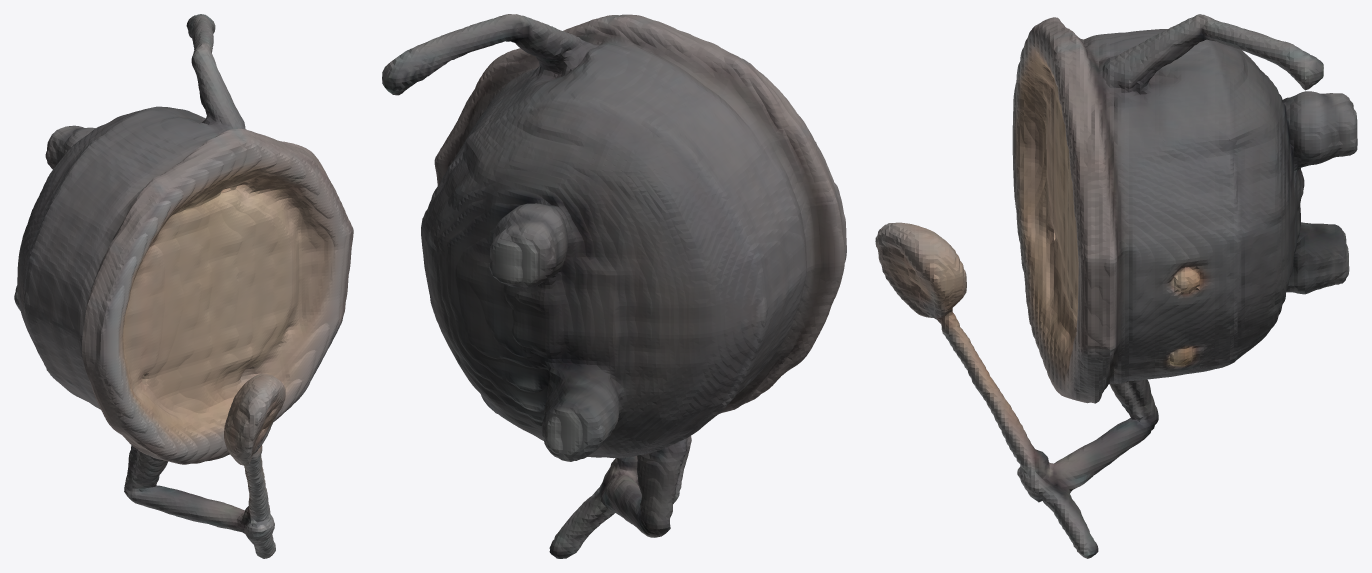
Rendered from enemy_lobber_triposr.glb.
3 views of the same model, side by side, from view 1: azimuth 30°, elevation 25°; view 2: azimuth 150°, elevation 25°; view 3: azimuth 270°, elevation 25° (orthographic). The views are drawn at different scales.
Parts seen in each view (by area): view 1: geometry_0; view 2: geometry_0; view 3: geometry_0.
Boxes of the visible parts, <box> form: geometry_0: <box>14,14,353,558</box>; geometry_0: <box>382,14,846,558</box>; geometry_0: <box>875,14,1357,558</box>.
Size of the model in its own units: 0.6977 by 1.08 by 0.8771.
